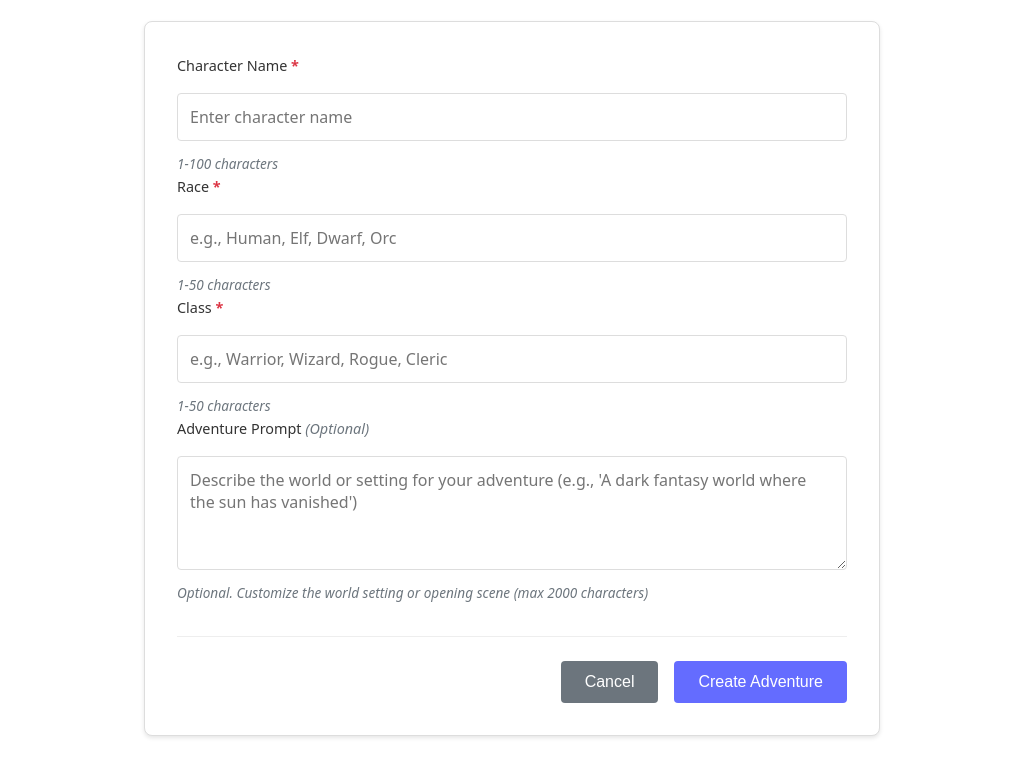
Test: NewCharacterPage › Client-side Validation › shows error when name is empty
(page scrolled)
What coordinates should you click on to do the following:
click the button "Create Adventure"
I would click on:
 (761, 682)
Its box is x1=674 y1=660 x2=847 y2=702.
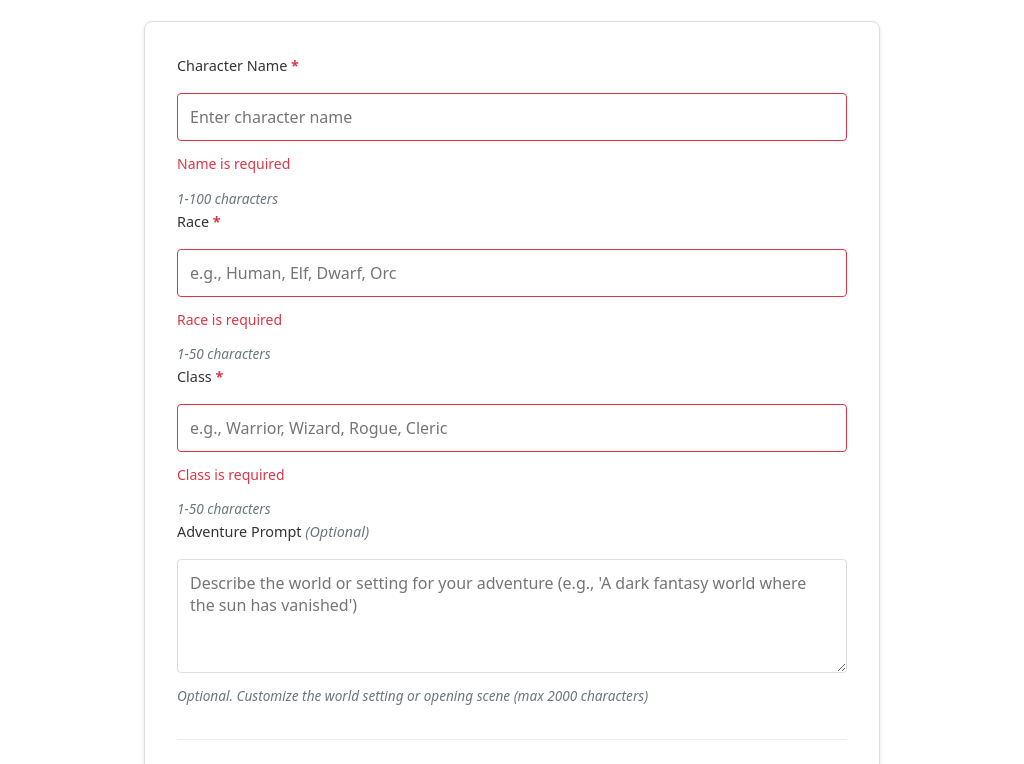
Result: the text "Name is required" is shown at x1=177 y1=154 x2=290 y2=173
